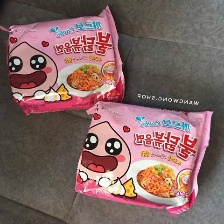snack: (71, 94, 220, 219), (0, 0, 132, 119)
